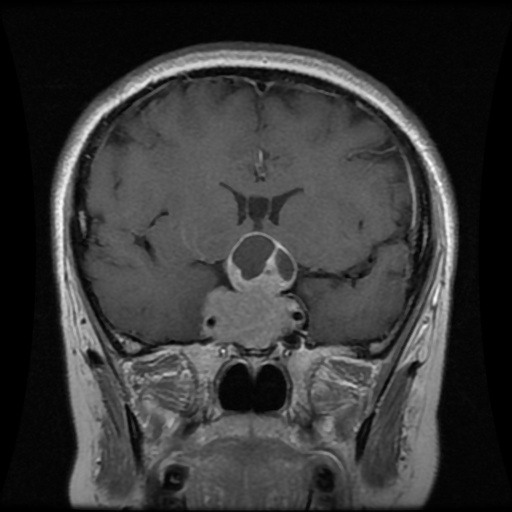pituitary: (201, 227, 300, 346)
